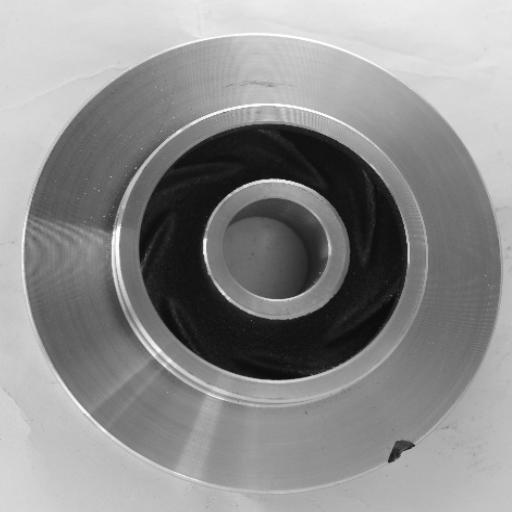crack: (378, 421, 427, 477)
unpolished_casting: (24, 34, 501, 493)
